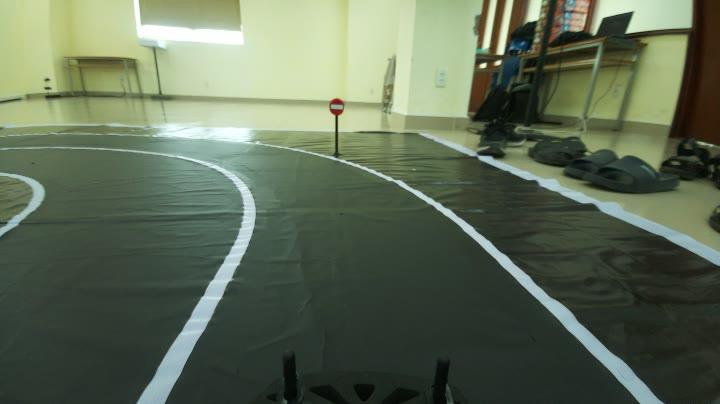no_entry: (326, 97, 349, 115)
